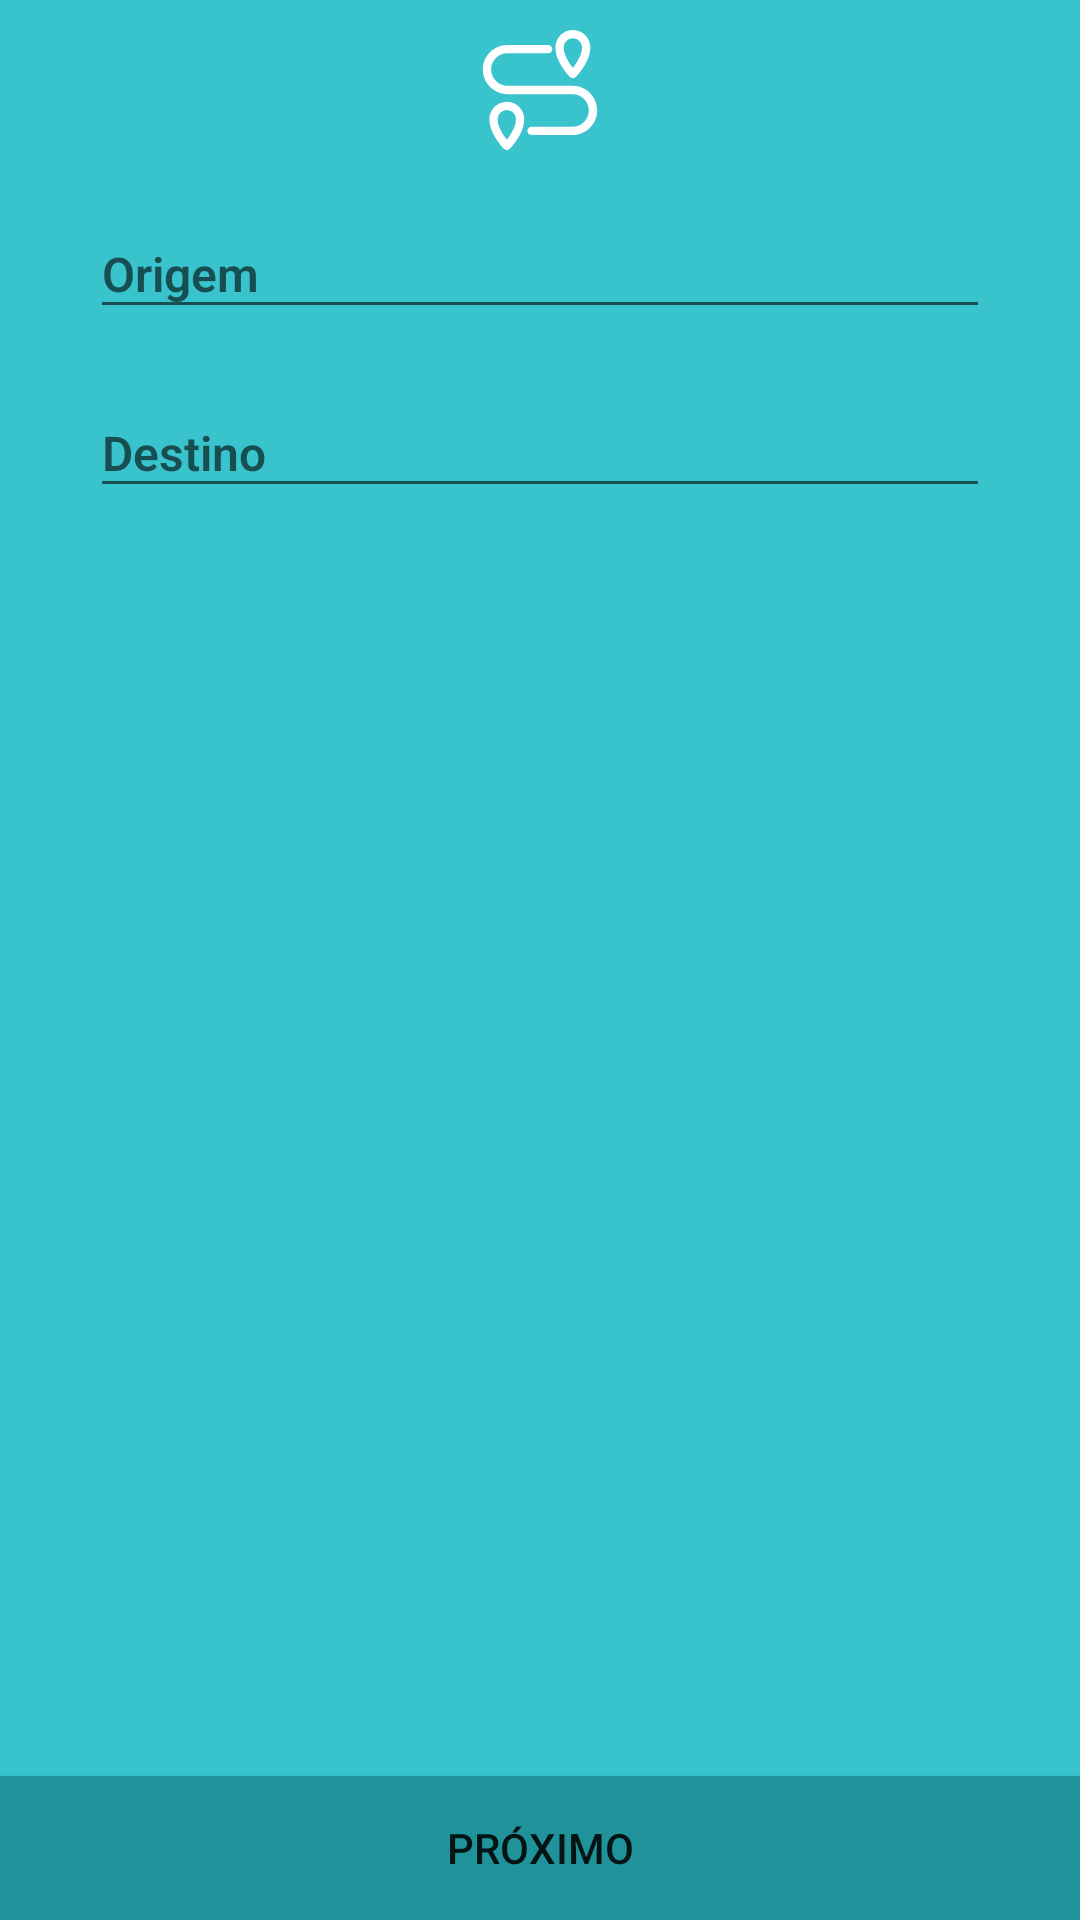

Screen size 1080x1920. Icon name, then its center in pixels as (x=x, y=y):
route: (x=539, y=90)
